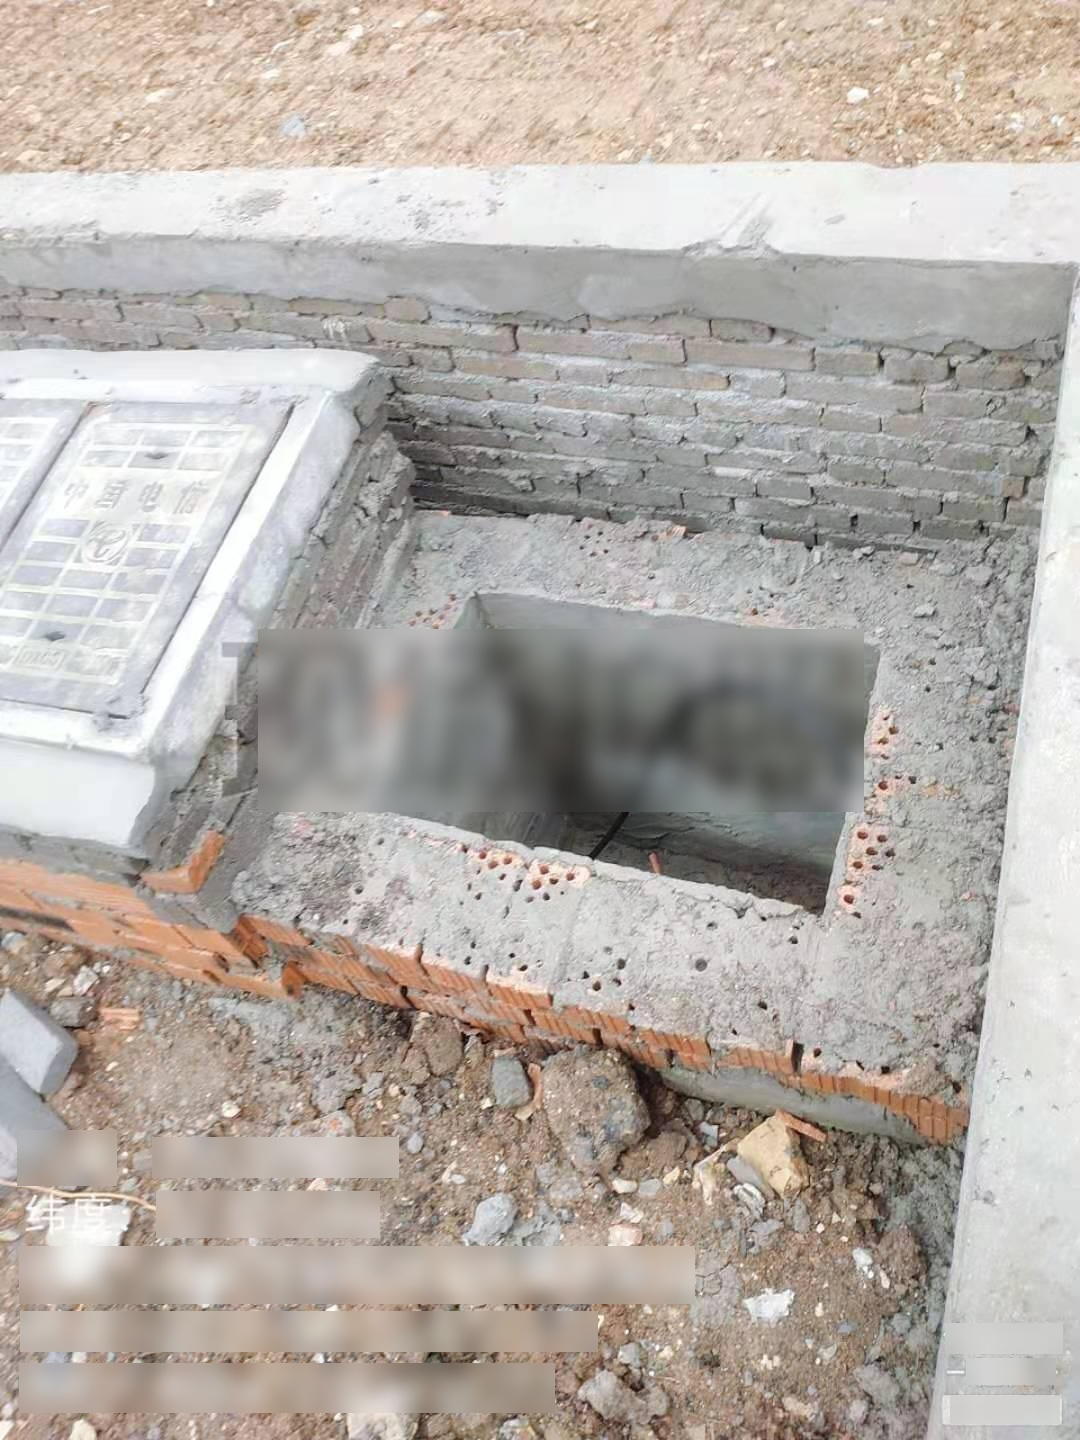lose: (363, 583, 885, 922)
